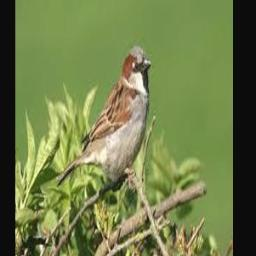Sparrow: (55, 46, 151, 189)
